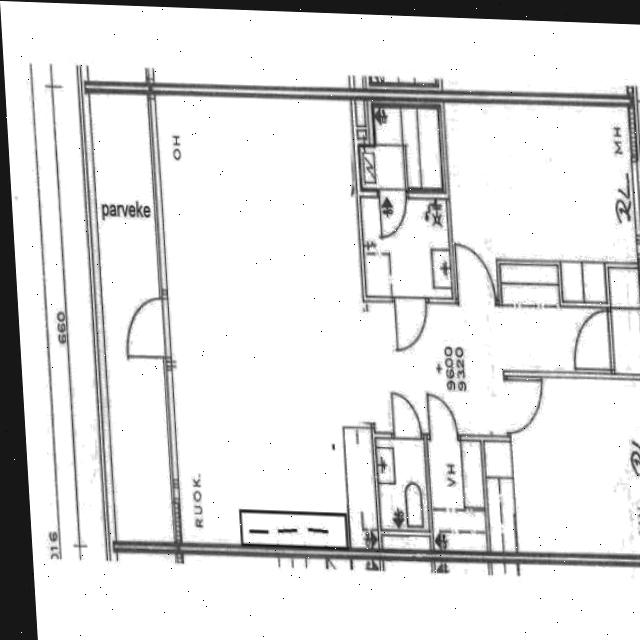room: (444, 92, 639, 310), (485, 376, 640, 552), (361, 192, 452, 302), (427, 436, 487, 553), (360, 107, 442, 188), (376, 436, 429, 531)
